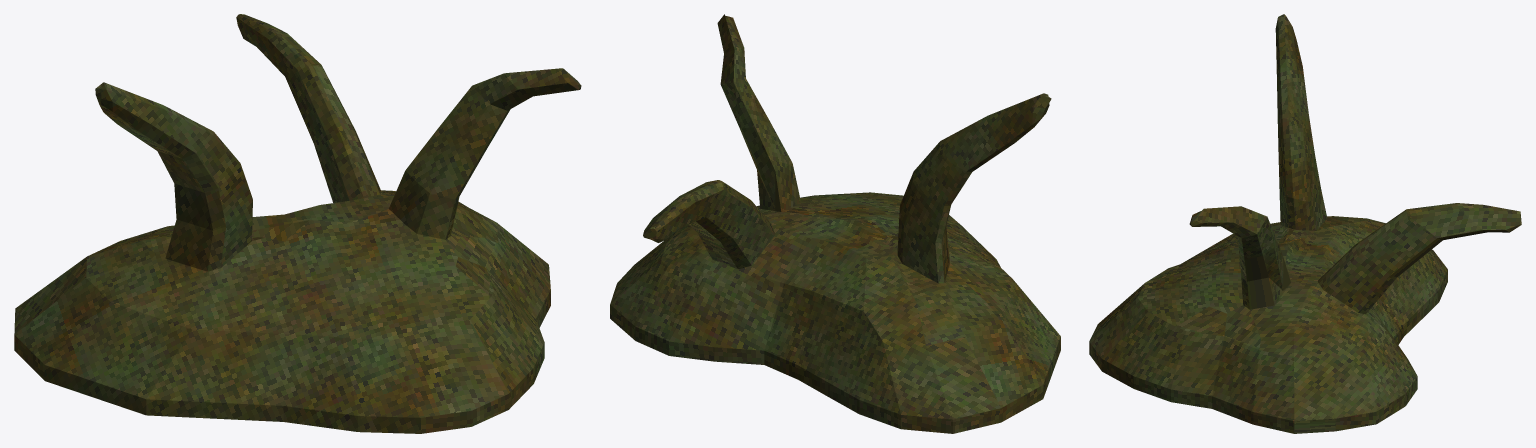
Rendered from Slime.fbx.
The picture shows the model from 3 angles, left to right: view 1: azimuth 30°, elevation 25°; view 2: azimuth 150°, elevation 25°; view 3: azimuth 270°, elevation 25°; orthographic projection. The views are drawn at different scales.
Visible parts, largest first — view 1: Slime; view 2: Slime; view 3: Slime.
Boxes of the visible parts, bbox=[...] form: Slime: bbox=[14, 14, 581, 433]; Slime: bbox=[610, 14, 1060, 433]; Slime: bbox=[1089, 14, 1521, 433].
Bounding box in the file's own units: 696 × 434 × 690.
